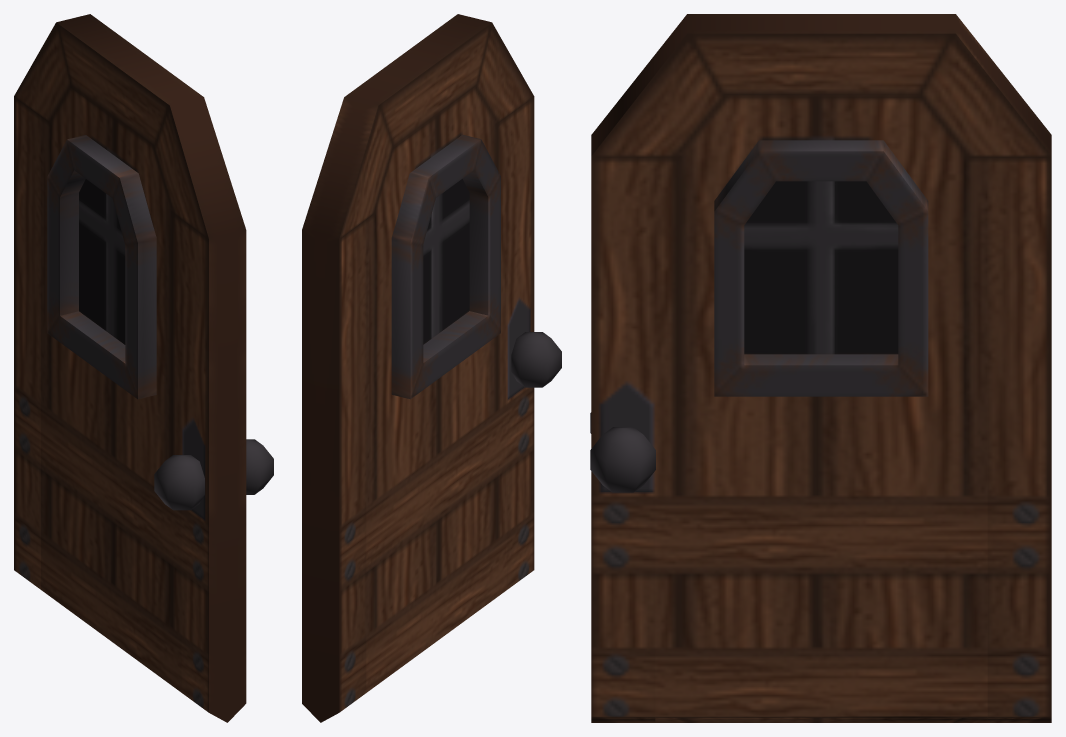
Rendered from Door8.fbx.
The picture shows the model from 3 angles, left to right: view 1: azimuth 30°, elevation 25°; view 2: azimuth 150°, elevation 25°; view 3: azimuth 270°, elevation 25°; orthographic projection. The views are drawn at different scales.
Parts seen in each view (by area): view 1: DoorMesh8; view 2: DoorMesh8; view 3: DoorMesh8.
Part boxes in pixels (x1,y1,x2,y2): DoorMesh8: [14, 14, 273, 722]; DoorMesh8: [302, 14, 561, 722]; DoorMesh8: [590, 14, 1051, 722].
Bounding box in the file's own units: 2.57 × 13.72 × 8.21.
1 material, 1 textured.
